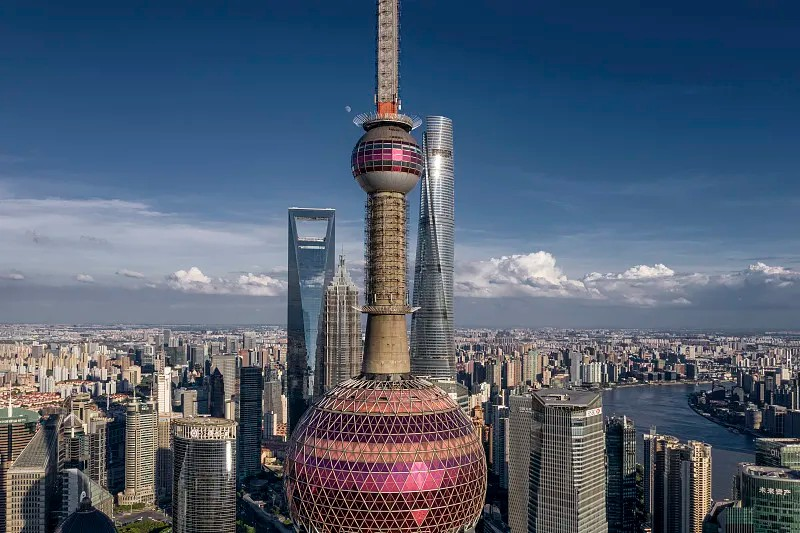Oriental: (282, 1, 487, 533)
